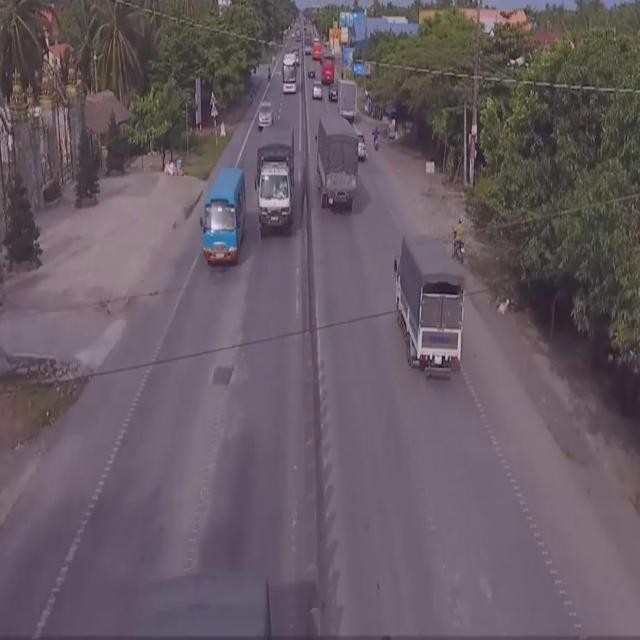bus: (200, 166, 247, 267), (282, 47, 298, 90)
car: (258, 95, 275, 126), (355, 130, 367, 160)
motorbike: (449, 216, 466, 270)
truck: (392, 231, 466, 378), (257, 121, 295, 241), (314, 117, 358, 213), (337, 80, 360, 122)
